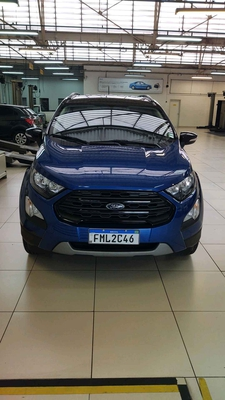Frontal Veiculo: (20, 97, 204, 259)
